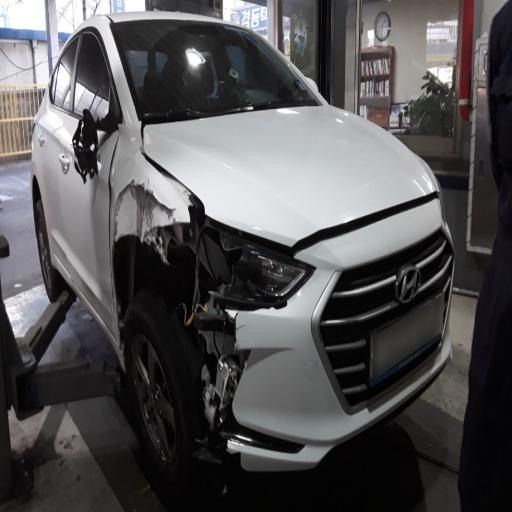broken: (115, 142, 303, 462)
